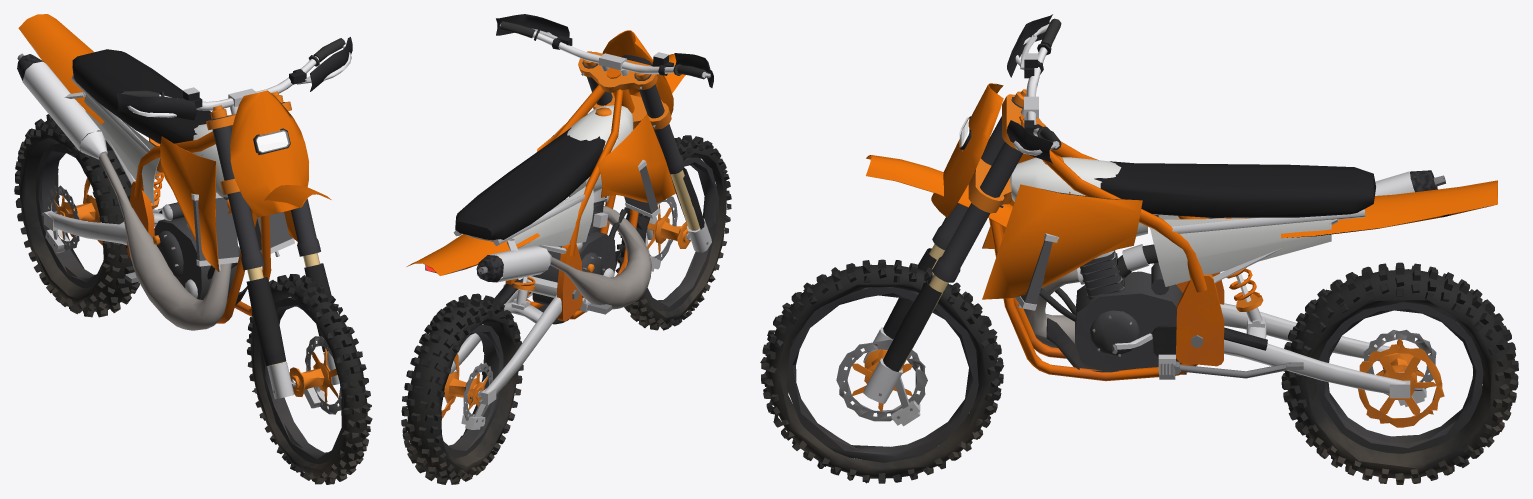
The model's file is enduro-300-mobile-CVYuZGa1.glb.
3 renders of one model, left to right at view 1: azimuth 30°, elevation 25°; view 2: azimuth 150°, elevation 25°; view 3: azimuth 270°, elevation 25°, orthographic. The views are drawn at different scales.
Parts seen in each view (by area): view 1: SM_Enduro_Body_LOD3, SM_Enduro_Steering_LOD3, SM_Enduro_WheelRear_LOD3, SM_Enduro_WheelFront_LOD3, SM_Enduro_ForkLower_LOD3, SM_Enduro_Swingarm_LOD3; view 2: SM_Enduro_Body_LOD3, SM_Enduro_WheelRear_LOD3, SM_Enduro_Steering_LOD3, SM_Enduro_WheelFront_LOD3, SM_Enduro_Swingarm_LOD3, SM_Enduro_ForkLower_LOD3; view 3: SM_Enduro_Body_LOD3, SM_Enduro_WheelRear_LOD3, SM_Enduro_WheelFront_LOD3, SM_Enduro_Steering_LOD3, SM_Enduro_Swingarm_LOD3, SM_Enduro_ForkLower_LOD3.
Boxes of the visible parts, bbox=[...] form: SM_Enduro_Body_LOD3: bbox=[17, 14, 297, 330]; SM_Enduro_Steering_LOD3: bbox=[116, 37, 352, 270]; SM_Enduro_WheelRear_LOD3: bbox=[14, 114, 139, 317]; SM_Enduro_WheelFront_LOD3: bbox=[246, 274, 372, 484]; SM_Enduro_ForkLower_LOD3: bbox=[246, 253, 339, 408]; SM_Enduro_Swingarm_LOD3: bbox=[41, 193, 164, 253]; SM_Enduro_Body_LOD3: bbox=[406, 68, 675, 324]; SM_Enduro_WheelRear_LOD3: bbox=[401, 293, 523, 484]; SM_Enduro_Steering_LOD3: bbox=[496, 14, 713, 174]; SM_Enduro_WheelFront_LOD3: bbox=[615, 135, 731, 330]; SM_Enduro_Swingarm_LOD3: bbox=[448, 276, 561, 429]; SM_Enduro_ForkLower_LOD3: bbox=[645, 167, 711, 271]; SM_Enduro_Body_LOD3: bbox=[982, 115, 1497, 381]; SM_Enduro_WheelRear_LOD3: bbox=[1281, 262, 1518, 484]; SM_Enduro_WheelFront_LOD3: bbox=[760, 259, 1003, 483]; SM_Enduro_Steering_LOD3: bbox=[866, 14, 1061, 282]; SM_Enduro_Swingarm_LOD3: bbox=[1220, 273, 1426, 406]; SM_Enduro_ForkLower_LOD3: bbox=[863, 244, 948, 426].
Bounding box in the file's own units: 0.8758 × 1.27 × 2.17.
Materials: 2 (1 with a texture image).
